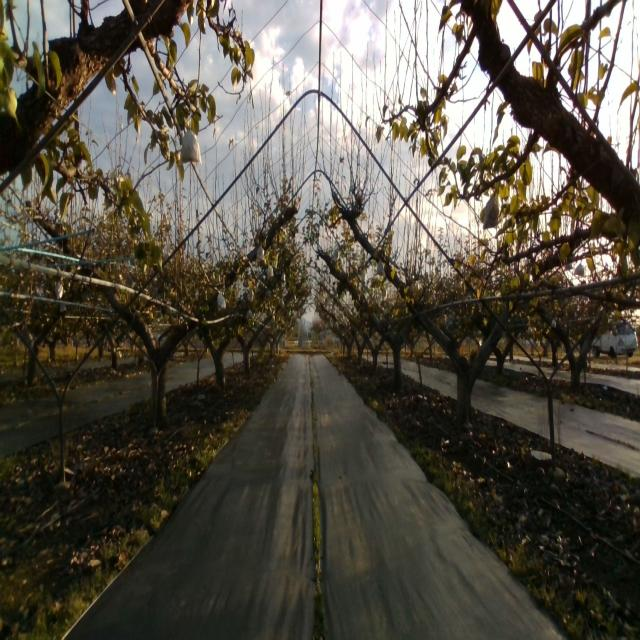pearbags: (180, 124, 203, 167), (483, 187, 500, 231), (376, 258, 386, 279)
